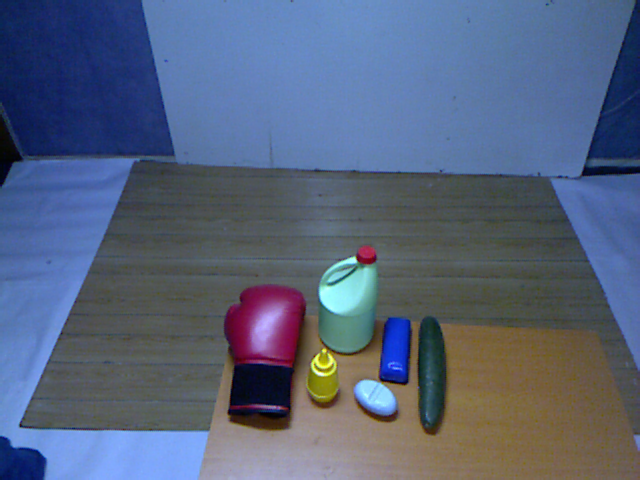borrador: (375, 309, 415, 386)
cloro: (311, 241, 381, 357)
guante: (219, 283, 311, 427)
jabon: (349, 375, 406, 421)
mostaza: (301, 346, 342, 411)
pepino: (412, 311, 452, 438)
